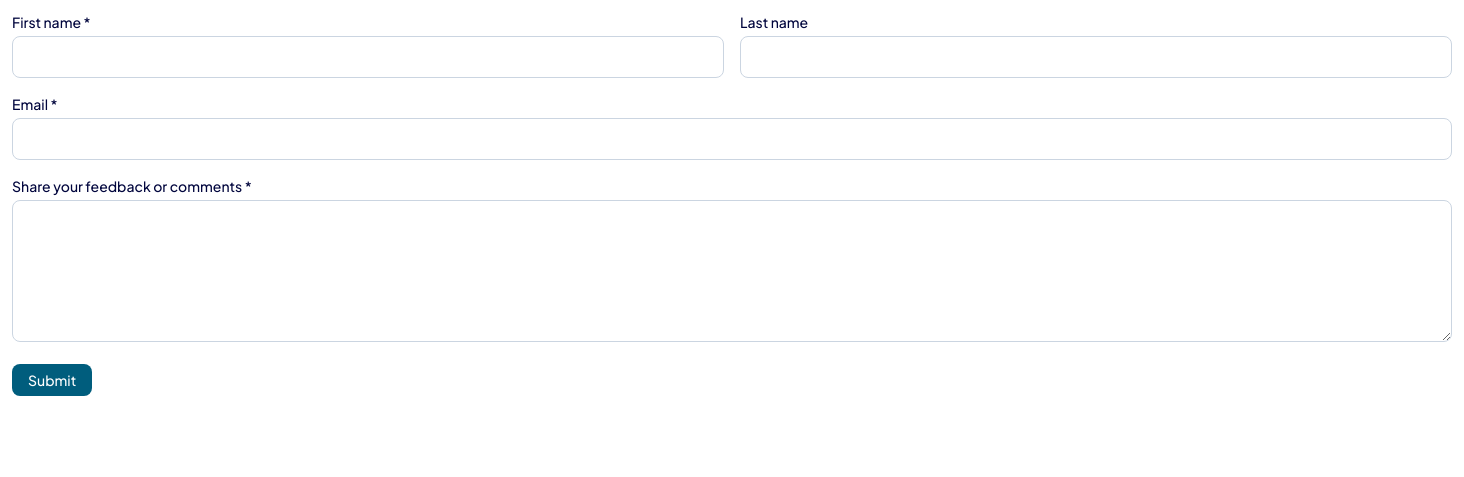
Scenario: ContactForm › shows errors for the required fields and does not submit
Click the button "Submit". click: (52, 380)
box: [12,364,92,396]
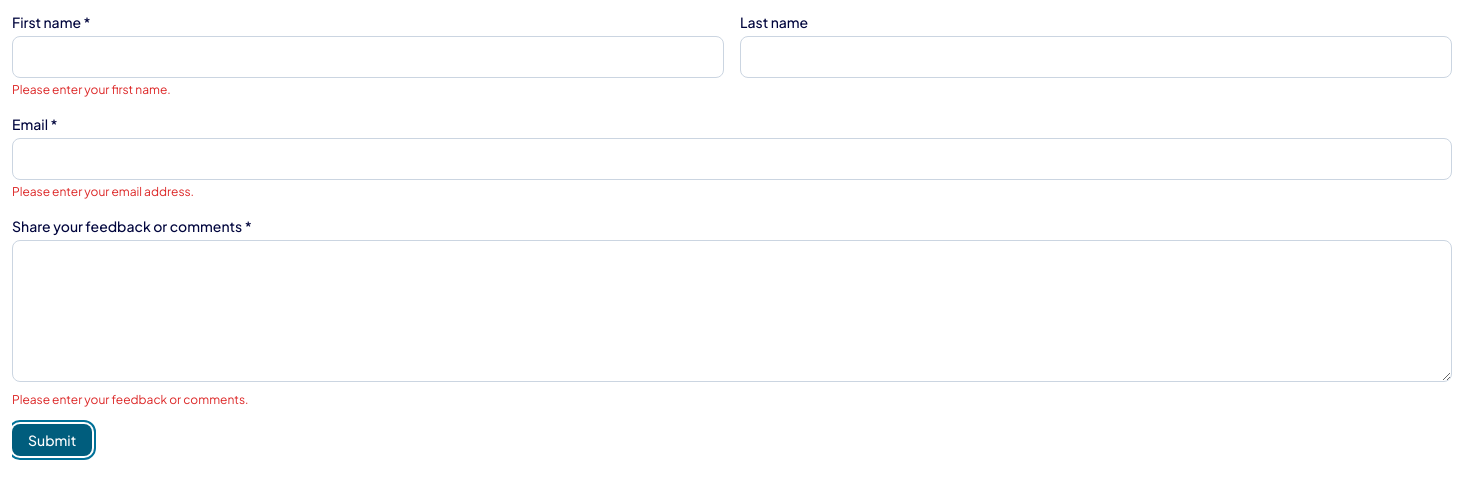
Now the text "Please enter your first name." is shown, box [12,82,171,97]
Now the text "Please enter your email address." is shown, box [12,184,194,199]
Now the text "Please enter your feedback or comments." is shown, box [12,392,248,407]
